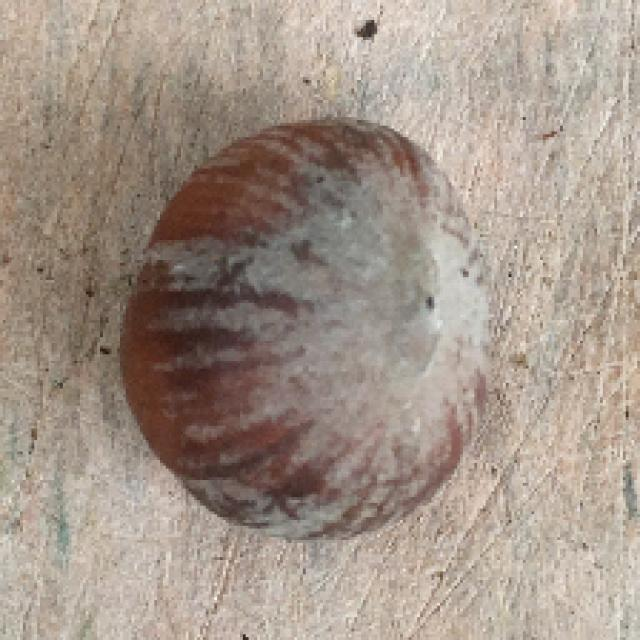qualityHazelnut: (121, 115, 495, 540)
